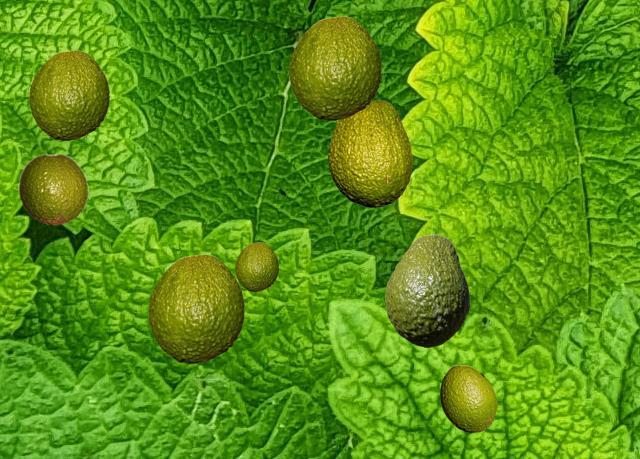avocado: (148, 254, 243, 362), (289, 16, 380, 119), (385, 234, 468, 346), (328, 99, 411, 206), (29, 50, 108, 139), (18, 153, 88, 224), (440, 365, 496, 431), (235, 242, 277, 290)
